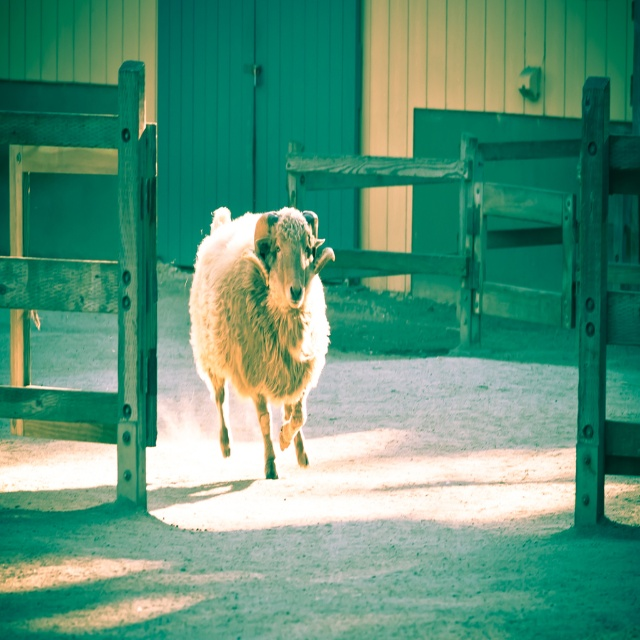Sheep: (183, 203, 341, 477)
